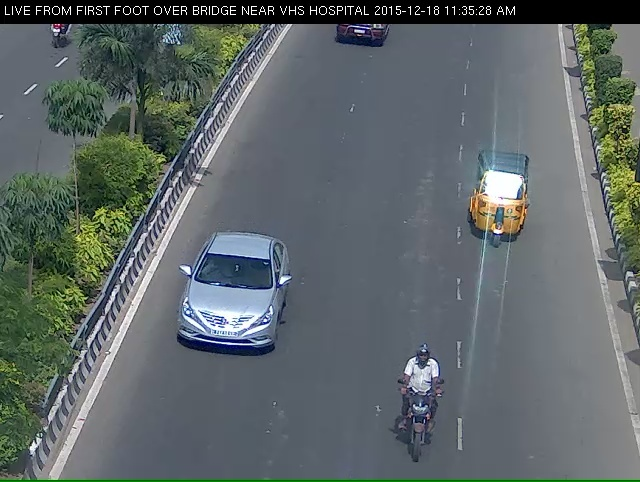Auto: (472, 163, 543, 275)
Car: (169, 245, 293, 398)
Person: (386, 366, 443, 480)
